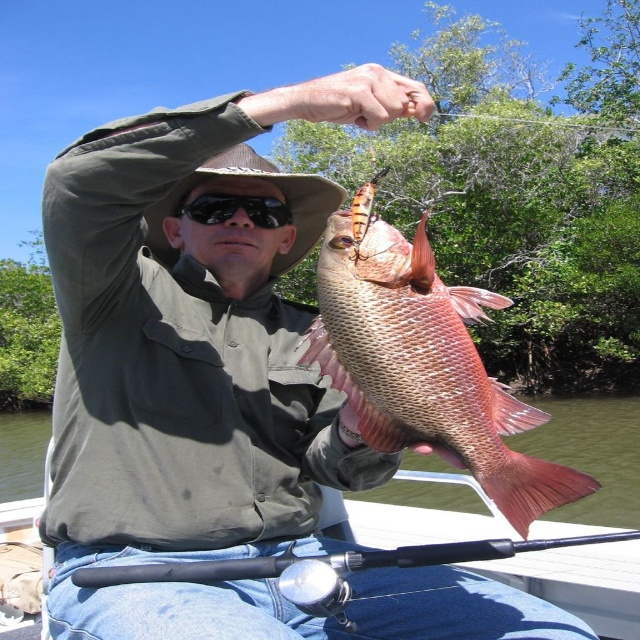Fish: (276, 176, 574, 559)
